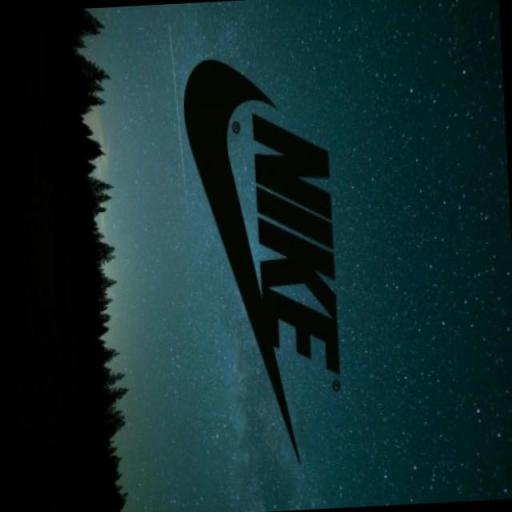Nike: (180, 58, 286, 412), (248, 109, 342, 386)
